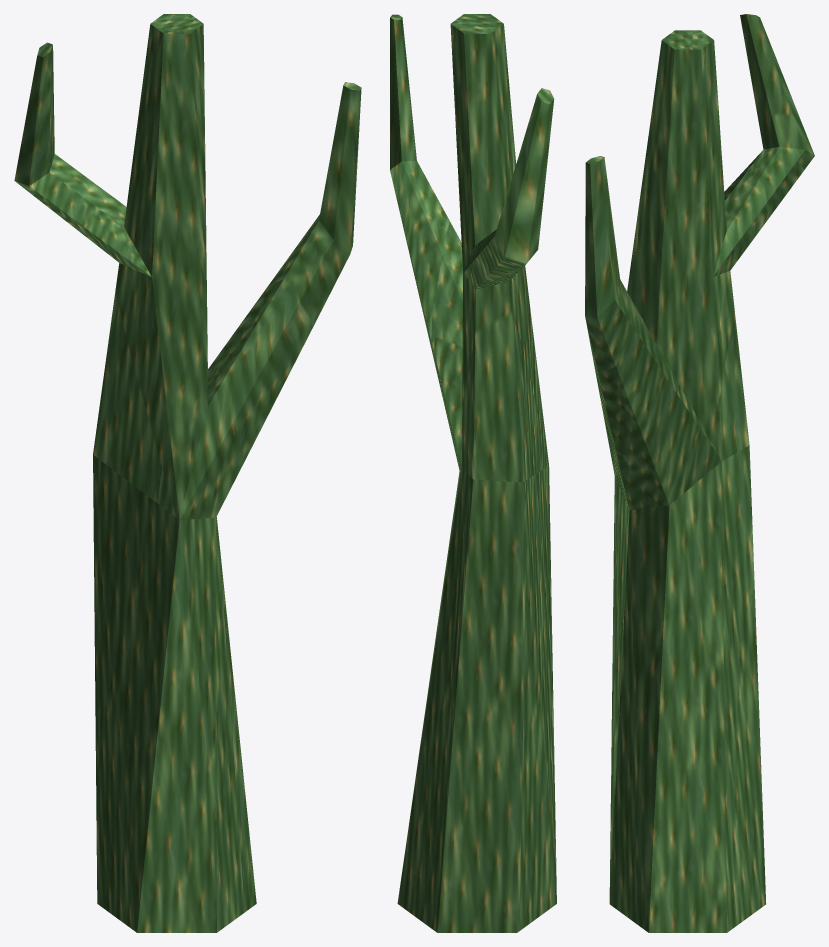
Rendered from cactus.fbx.
The picture shows the model from 3 angles, left to right: view 1: azimuth 30°, elevation 25°; view 2: azimuth 150°, elevation 25°; view 3: azimuth 270°, elevation 25°; orthographic projection.
Visible parts, largest first — view 1: Cylinder; view 2: Cylinder; view 3: Cylinder.
Boxes of the visible parts, x1,y1,x2,y2 form: Cylinder: (14,14,361,932); Cylinder: (390,14,556,932); Cylinder: (585,14,814,932).
Bounding box in the file's own units: 76.83 × 268 × 64.69.
